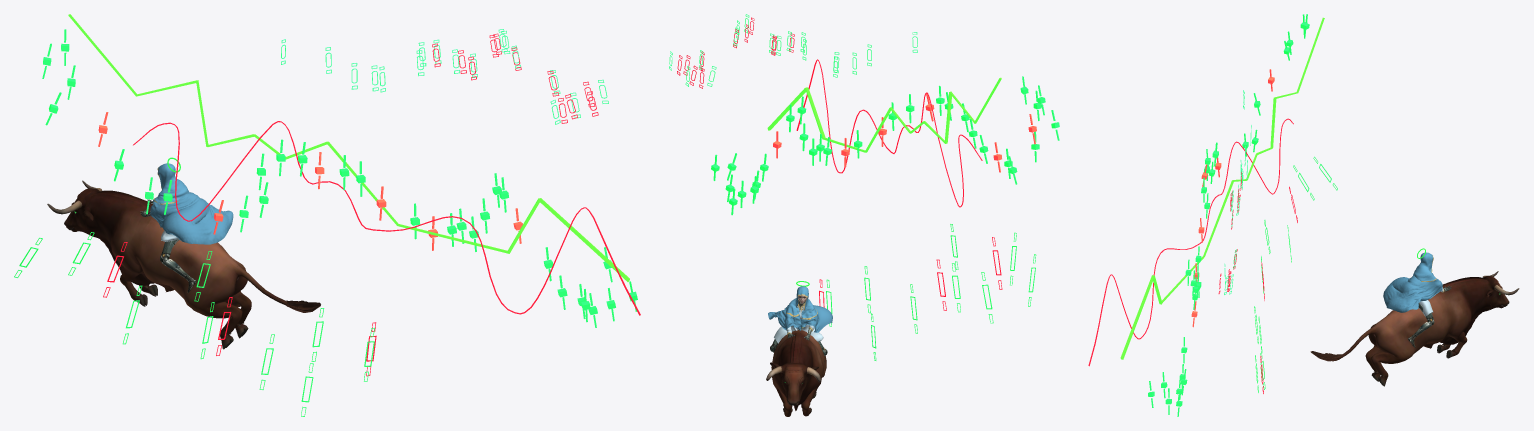
File: ourlady_rider7.glb
3 renders of one model, left to right at view 1: azimuth 30°, elevation 25°; view 2: azimuth 150°, elevation 25°; view 3: azimuth 270°, elevation 25°, orthographic. The views are drawn at different scales.
Visible parts, largest first — view 1: Object_55.007, pose.001, Line, Line2, Object_55.015, Object_55.014, lady.006; view 2: Object_55.007, pose.001, Line, Line2, Object_55.014; view 3: Object_55.007, pose.001, Line, Line2, Object_55.054.
Boxes of the visible parts, x1,y1,x2,y2 form: Object_55.007: [85, 192, 247, 312]; pose.001: [150, 163, 233, 244]; Line: [68, 14, 629, 281]; Line2: [133, 121, 640, 315]; Object_55.015: [197, 302, 242, 349]; Object_55.014: [64, 188, 97, 235]; lady.006: [140, 199, 196, 292]; Object_55.007: [771, 330, 826, 409]; pose.001: [768, 286, 832, 332]; Line: [767, 77, 1001, 152]; Line2: [796, 59, 982, 207]; Object_55.014: [781, 363, 807, 405]; Object_55.007: [1368, 278, 1491, 360]; pose.001: [1383, 252, 1442, 312]; Line: [1120, 17, 1324, 359]; Line2: [1088, 118, 1293, 366]; Object_55.054: [1371, 352, 1404, 386].
Size of the model in its own units: 6.37 by 4.93 by 6.34.
Materials: 18 (2 with a texture image).
